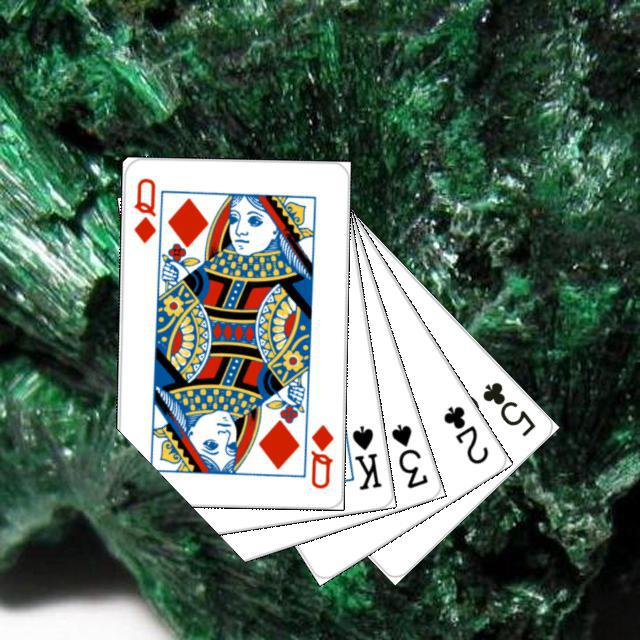2c: (438, 400, 491, 466)
3s: (386, 419, 430, 490)
5c: (477, 377, 537, 439)
Ks: (347, 421, 383, 492)
Qd: (128, 173, 158, 245), (305, 420, 335, 490)
